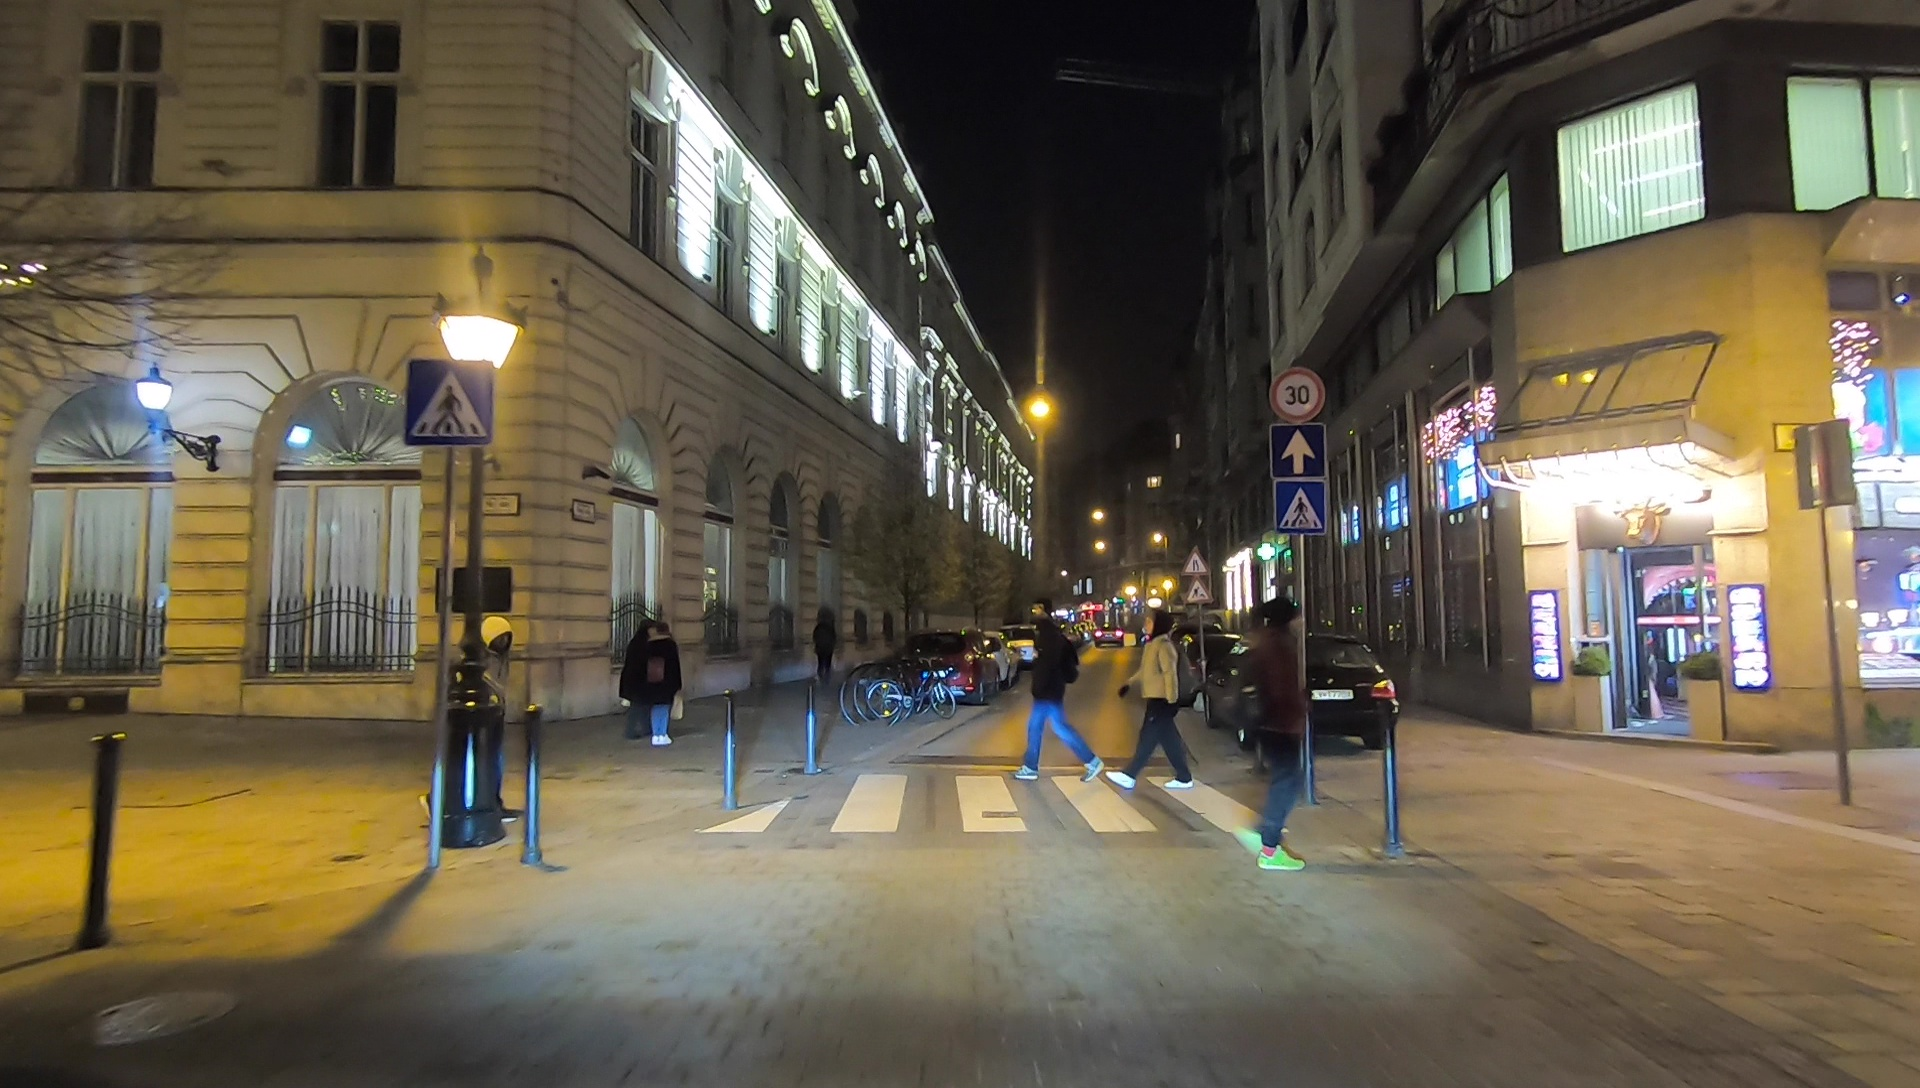person: (1238, 595, 1314, 873), (432, 613, 521, 821), (1114, 606, 1206, 789), (1021, 595, 1108, 784), (643, 621, 688, 749), (810, 606, 838, 682)
